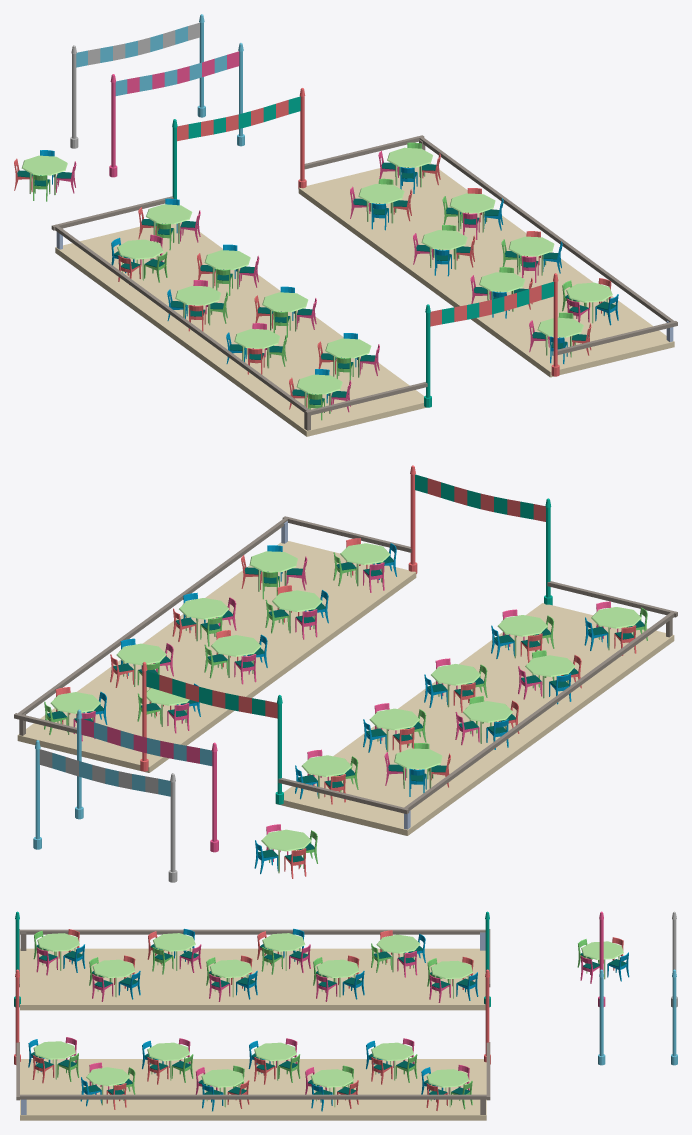
Rendered from FestArea_geo.fbx.
3 views of the same model, one above another, from view 1: azimuth 30°, elevation 25°; view 2: azimuth 150°, elevation 25°; view 3: azimuth 270°, elevation 25° (orthographic). The views are drawn at different scales.
Parts seen in each view (by area): view 1: Fest_Left, FestRight, PinkBlueFlag1, PinkTurqFlag1, GrayBlueFlag1, PinkTurqFlag_Copy1, SingleArea; view 2: Fest_Left, FestRight, PinkTurqFlag_Copy1, GrayBlueFlag1, PinkBlueFlag1, PinkTurqFlag1, SingleArea, GrayBlueFlag3, PinkTurqFlag2; view 3: Fest_Left, FestRight, SingleArea, PinkBlueFlag2, GrayBlueFlag2, PinkTurqFlag2, PinkTurqFlag_Copy2, PinkBlueFlag3, GrayBlueFlag3, PinkTurqFlag3, PinkTurqFlag_Copy3.
Part boxes in pixels (x1=…): Fest_Left: x1=51, y1=196, x2=427, y2=436; FestRight: x1=298, y1=135, x2=677, y2=377; PinkBlueFlag1: x1=115, y1=51, x2=239, y2=95; PinkTurqFlag1: x1=430, y1=281, x2=553, y2=326; GrayBlueFlag1: x1=76, y1=22, x2=199, y2=67; PinkTurqFlag_Copy1: x1=177, y1=96, x2=300, y2=141; SingleArea: x1=14, y1=150, x2=76, y2=201; Fest_Left: x1=275, y1=581, x2=677, y2=835; FestRight: x1=14, y1=516, x2=416, y2=772; PinkTurqFlag_Copy1: x1=146, y1=671, x2=277, y2=718; GrayBlueFlag1: x1=39, y1=749, x2=170, y2=796; PinkBlueFlag1: x1=81, y1=718, x2=212, y2=765; PinkTurqFlag1: x1=415, y1=474, x2=545, y2=521; SingleArea: x1=254, y1=824, x2=317, y2=878; GrayBlueFlag3: x1=168, y1=773, x2=177, y2=882; PinkTurqFlag2: x1=408, y1=465, x2=417, y2=573; Fest_Left: x1=19, y1=928, x2=490, y2=1010; FestRight: x1=16, y1=1037, x2=490, y2=1120; SingleArea: x1=577, y1=937, x2=629, y2=983; PinkBlueFlag2: x1=598, y1=969, x2=605, y2=1065; GrayBlueFlag2: x1=671, y1=969, x2=677, y2=1065; PinkTurqFlag2: x1=14, y1=969, x2=20, y2=1064; PinkTurqFlag_Copy2: x1=484, y1=969, x2=490, y2=1064; PinkBlueFlag3: x1=598, y1=911, x2=605, y2=1006; GrayBlueFlag3: x1=671, y1=911, x2=677, y2=1007; PinkTurqFlag3: x1=14, y1=911, x2=20, y2=1007; PinkTurqFlag_Copy3: x1=484, y1=911, x2=490, y2=1007.
Size of the model in its own units: 201 by 53.95 by 335.
1 material, 1 textured.
